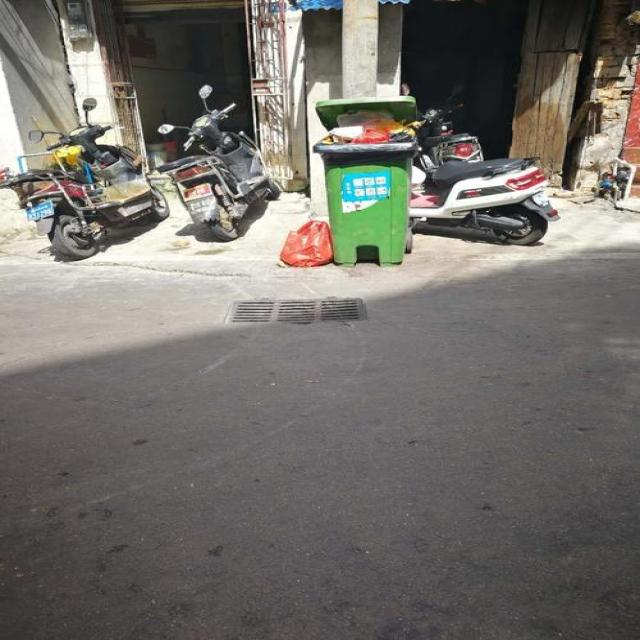garbage: (282, 219, 330, 266)
overflow: (312, 95, 418, 263)
